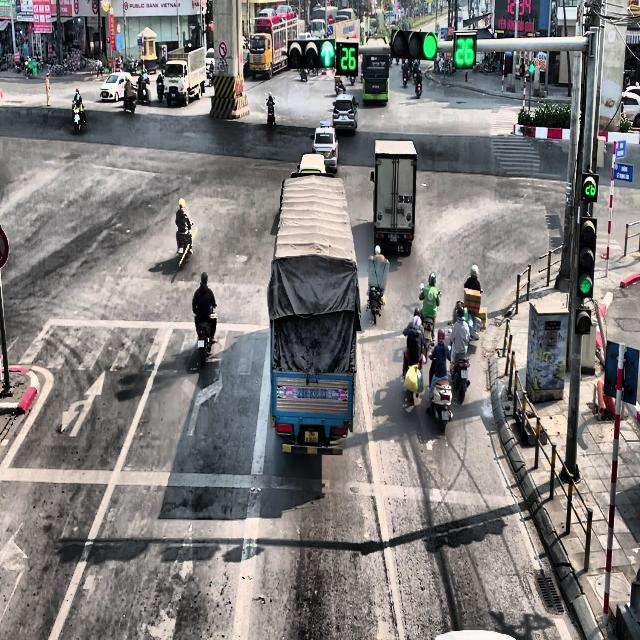lisence_plate: (298, 386, 328, 402), (303, 428, 319, 444), (398, 193, 413, 205), (390, 232, 398, 243), (371, 84, 381, 90), (341, 114, 347, 121), (373, 95, 378, 100)
